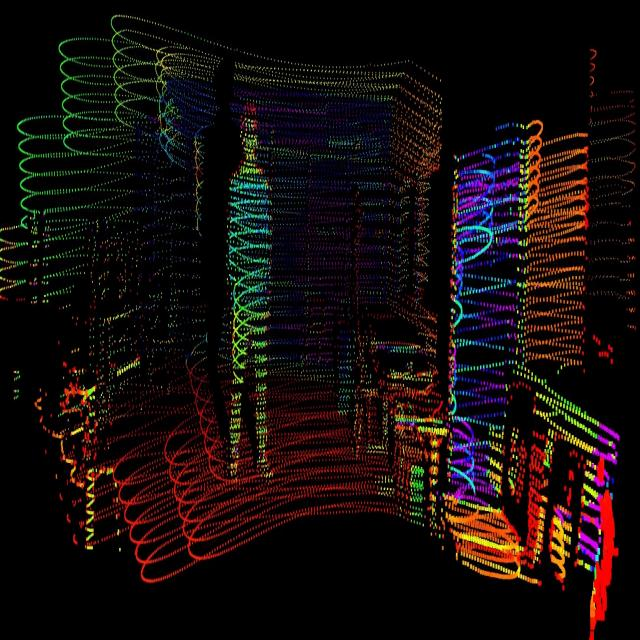human: (225, 92, 280, 488)
